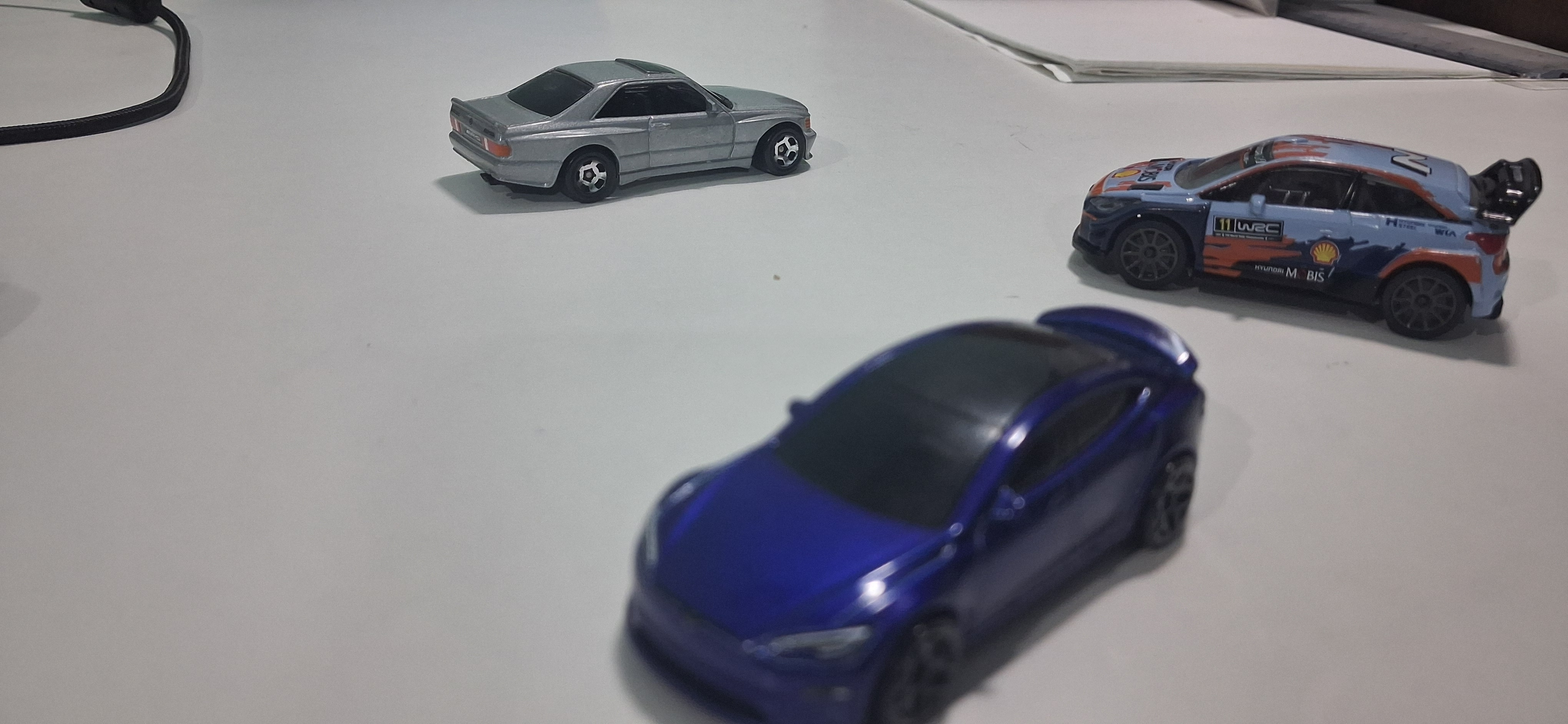Hyundai_I20_WRC: (1065, 56, 1544, 358)
Mercedes_Benz_560_SEC_AMG: (421, 23, 837, 235)
Tesla_Model_S_Plaid: (599, 279, 1196, 694)
